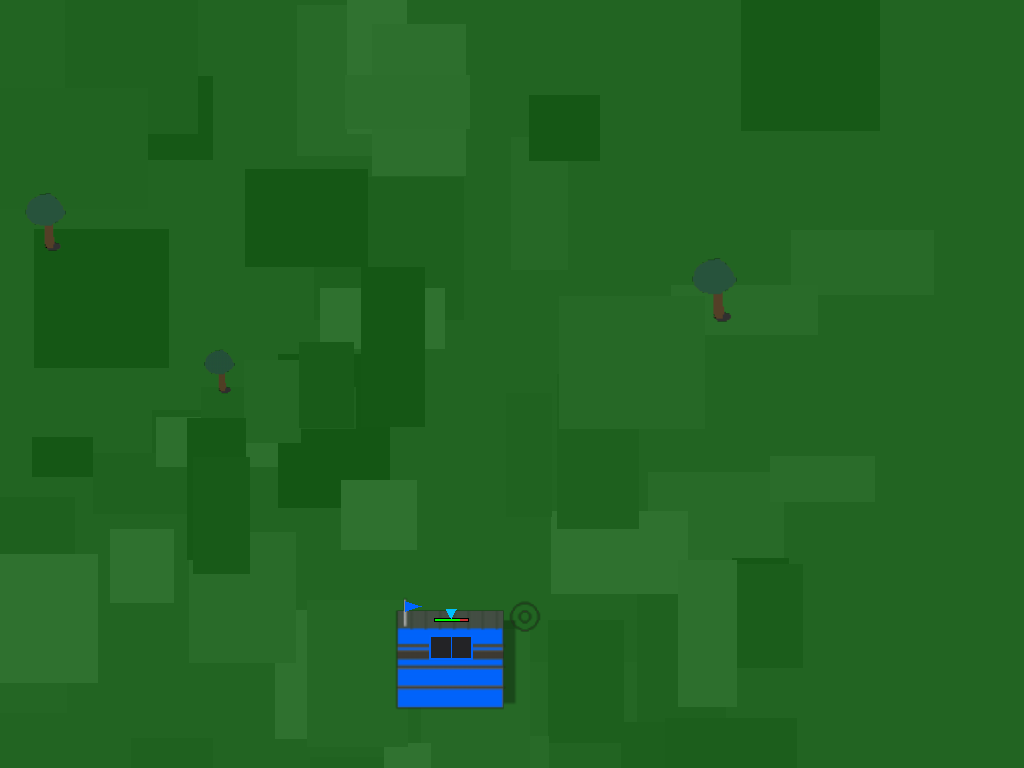Barracks: (386, 552, 515, 681)
